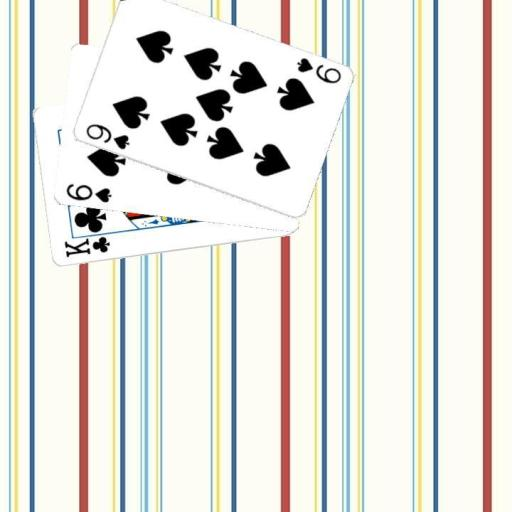6S: (63, 181, 113, 205)
9S: (82, 121, 131, 151), (293, 55, 342, 85)
KC: (61, 228, 115, 259)
